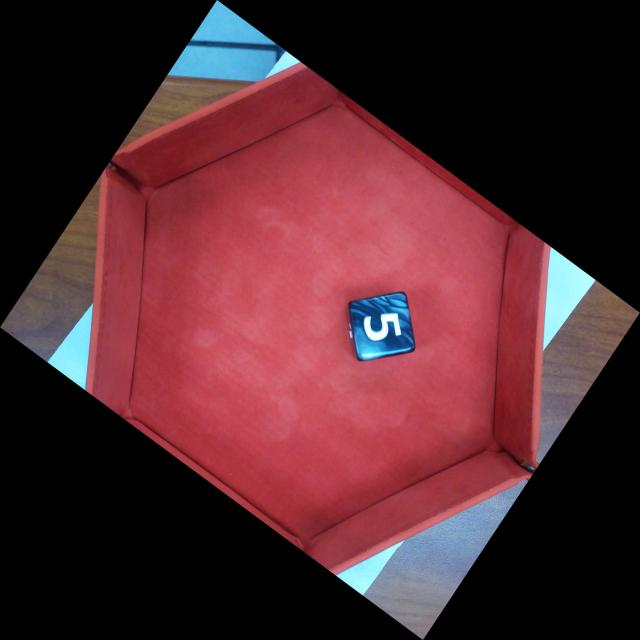dice: (347, 290, 417, 363)
